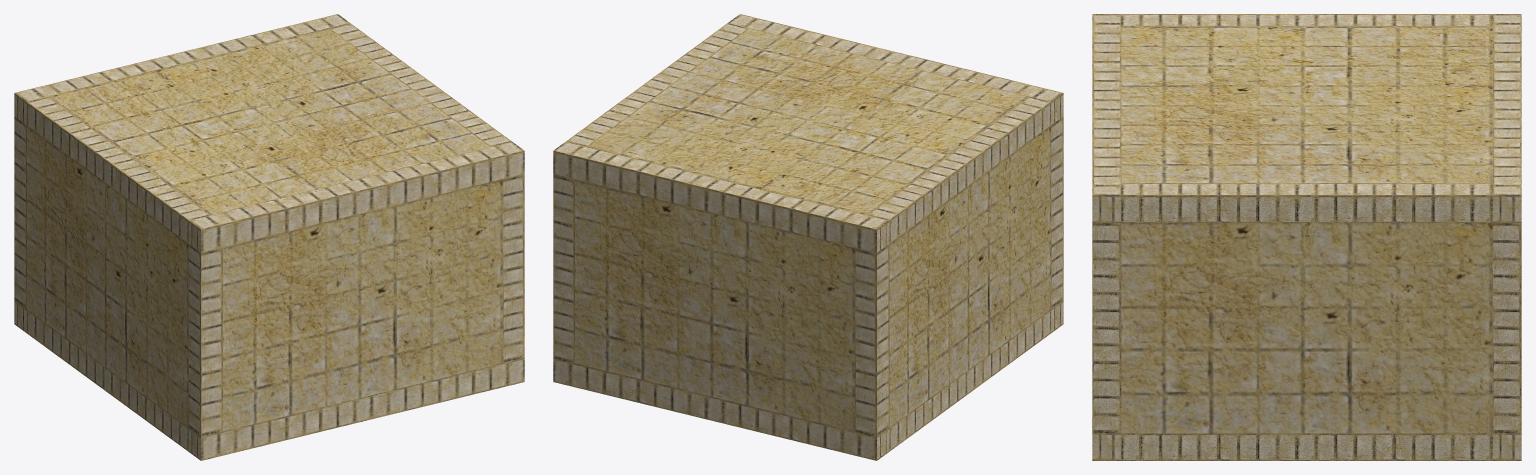
Rendered from desert_block.dae.
3 renders of one model, left to right at view 1: azimuth 30°, elevation 25°; view 2: azimuth 150°, elevation 25°; view 3: azimuth 270°, elevation 25°, orthographic. The views are drawn at different scales.
Parts seen in each view (by area): view 1: desert_block; view 2: desert_block; view 3: desert_block.
Boxes of the visible parts, <box> form: desert_block: <box>14,14,524,460</box>; desert_block: <box>553,14,1063,460</box>; desert_block: <box>1092,14,1521,460</box>.
Size of the model in its own units: 3.64 by 3.64 by 2.49.
Materials: 2 (2 with a texture image).
